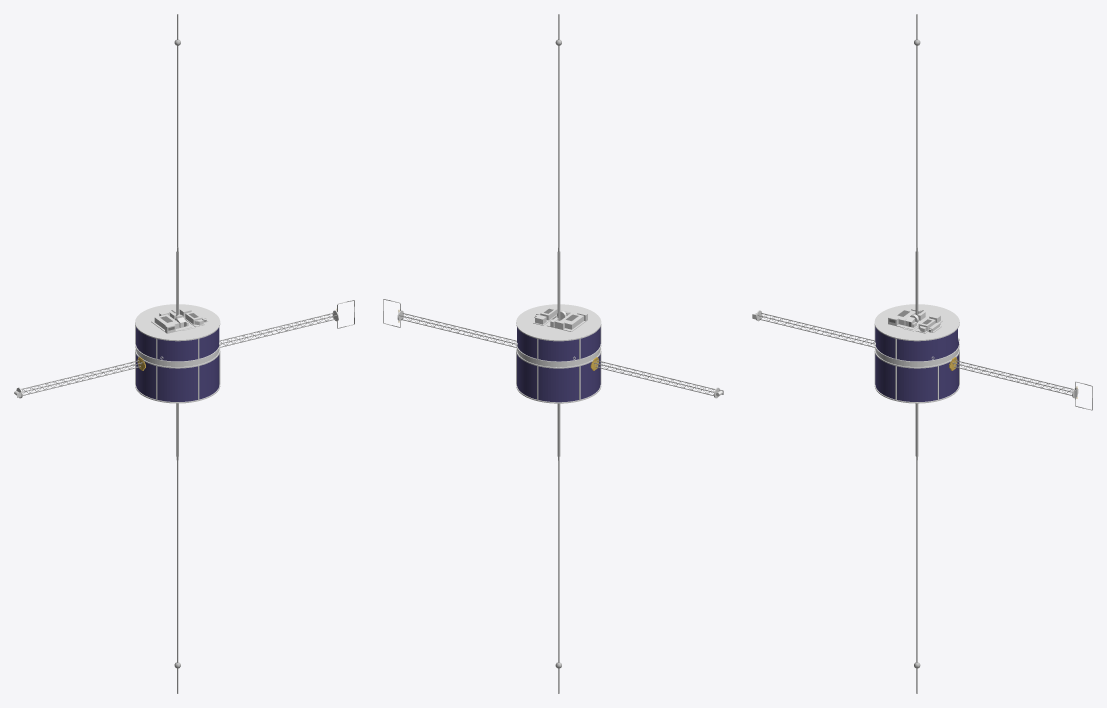
File: GeoTailSAT.glb
3 renders of one model, left to right at view 1: azimuth 30°, elevation 25°; view 2: azimuth 150°, elevation 25°; view 3: azimuth 330°, elevation 25°, orthographic.
Parts seen in each view (by area): view 1: Layer_0; view 2: Layer_0; view 3: Layer_0.
Boxes of the visible parts, x1=… form: Layer_0: x1=14, y1=14, x2=354, y2=693; Layer_0: x1=383, y1=14, x2=723, y2=693; Layer_0: x1=752, y1=14, x2=1092, y2=693.
Bounding box in the file's own units: 5491 × 10511 × 1194.
